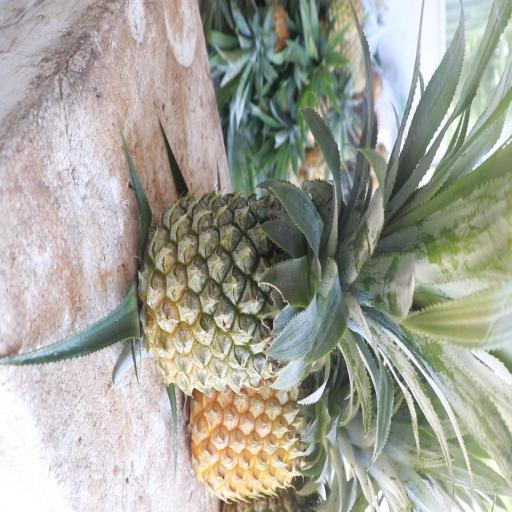------------------------------: (144, 186, 346, 388)
Pineapple - v8 v1: (196, 374, 334, 502)
